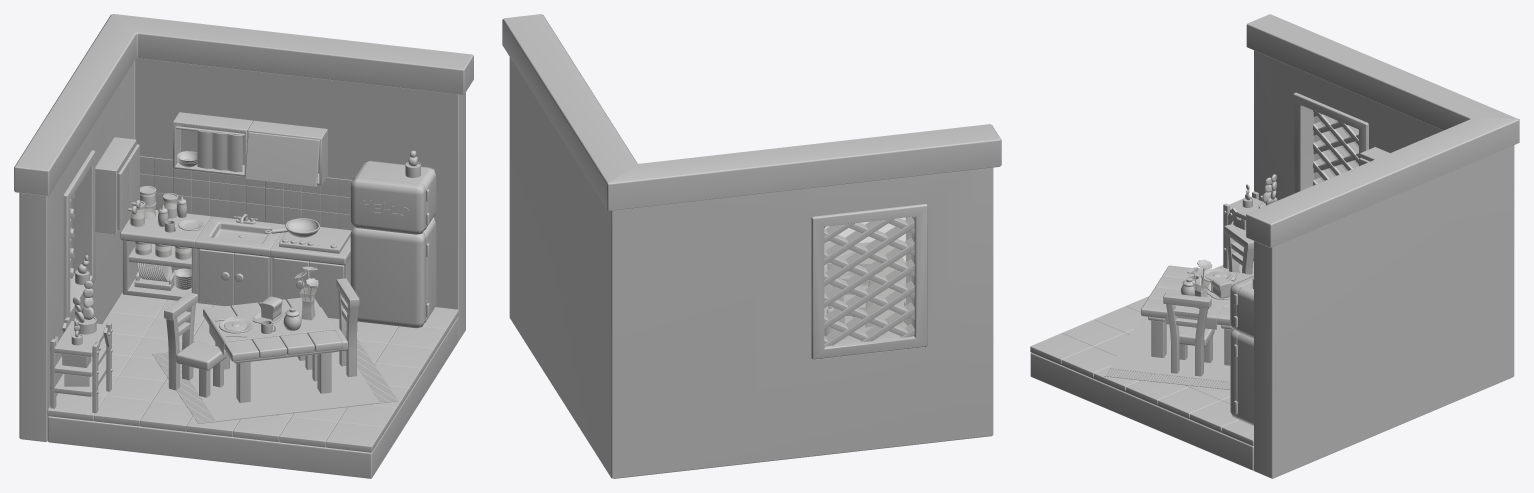
File: Kitchen_14.fbx
3 renders of one model, left to right at view 1: azimuth 30°, elevation 25°; view 2: azimuth 150°, elevation 25°; view 3: azimuth 270°, elevation 25°, orthographic. The views are drawn at different scales.
Parts seen in each view (by area): view 1: Room_14_Wall_1, Room_14_Floor_2, Room_14_Fridge_1, Room_14_Floor_1, Room_14_Carpet_1, Room_14_Tile_1, Room_14_Table_1, Room_14_Washstand_1, Room_14_Kitchen_Cabinet_2, Room_14_Kitchen_Cabinet_6, Room_14_Kitchen_Cabinet_1, Room_14_Window_1 (+10 smaller); view 2: Room_14_Wall_1, Room_14_Window_1, Room_14_Chair_2; view 3: Room_14_Wall_1, Room_14_Floor_2, Room_14_Floor_1, Room_14_Window_1, Room_14_Carpet_1, Room_14_Fridge_1, Room_14_Table_1, Room_14_Chair_1, Room_14_Chair_2, Room_14_Kitchen_Cabinet_4.
Boxes of the visible parts, bbox=[...] form: Room_14_Wall_1: bbox=[14, 14, 473, 441]; Room_14_Floor_2: bbox=[47, 292, 458, 452]; Room_14_Fridge_1: bbox=[350, 160, 436, 328]; Room_14_Floor_1: bbox=[47, 317, 458, 478]; Room_14_Carpet_1: bbox=[152, 339, 398, 423]; Room_14_Tile_1: bbox=[140, 156, 353, 230]; Room_14_Table_1: bbox=[203, 297, 342, 402]; Room_14_Washstand_1: bbox=[195, 213, 285, 306]; Room_14_Kitchen_Cabinet_2: bbox=[245, 120, 327, 187]; Room_14_Kitchen_Cabinet_6: bbox=[120, 209, 210, 300]; Room_14_Kitchen_Cabinet_1: bbox=[172, 112, 252, 176]; Room_14_Window_1: bbox=[63, 150, 95, 322]; Room_14_Wall_1: bbox=[502, 14, 1001, 478]; Room_14_Window_1: bbox=[811, 204, 927, 359]; Room_14_Chair_2: bbox=[827, 258, 882, 327]; Room_14_Wall_1: bbox=[1246, 14, 1519, 478]; Room_14_Floor_2: bbox=[1030, 261, 1253, 445]; Room_14_Floor_1: bbox=[1030, 353, 1253, 470]; Room_14_Window_1: bbox=[1293, 92, 1368, 193]; Room_14_Carpet_1: bbox=[1104, 316, 1230, 389]; Room_14_Fridge_1: bbox=[1230, 276, 1253, 425]; Room_14_Table_1: bbox=[1141, 265, 1253, 365]; Room_14_Chair_1: bbox=[1163, 293, 1214, 376]; Room_14_Chair_2: bbox=[1224, 224, 1253, 274]; Room_14_Kitchen_Cabinet_4: bbox=[1223, 191, 1263, 268].
Bounding box in the file's own units: 726 × 416 × 713.
